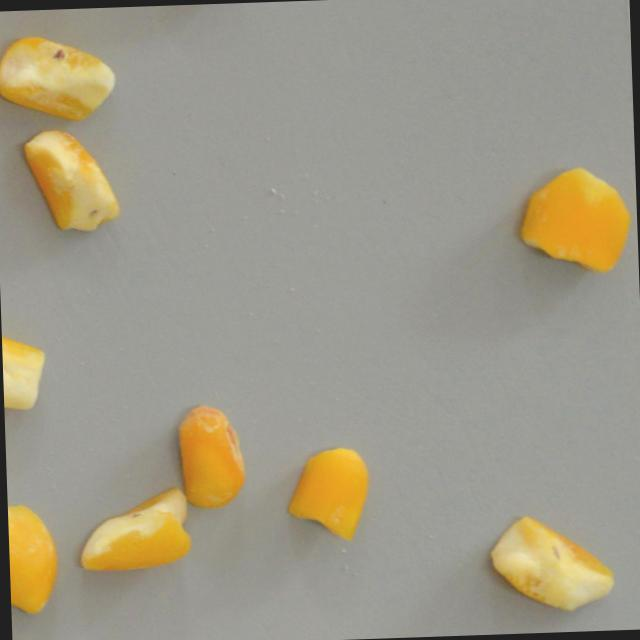dañado: (174, 403, 247, 510)
estandar: (284, 443, 377, 544), (6, 499, 60, 619)
no_canjicado: (514, 166, 633, 277)
punto_negro: (485, 511, 617, 618), (14, 125, 126, 239), (0, 30, 125, 127), (74, 484, 200, 577), (0, 324, 50, 416)
